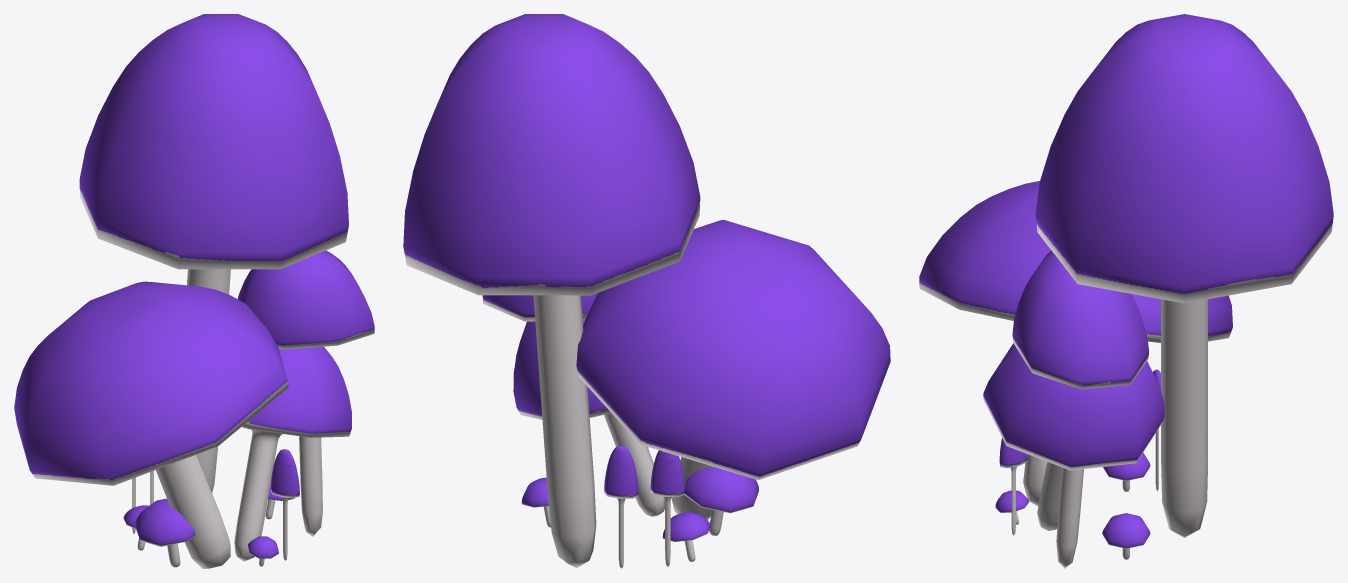
The model's file is PurpleMushroomCluster.fbx.
The picture shows the model from 3 angles, left to right: view 1: azimuth 30°, elevation 25°; view 2: azimuth 150°, elevation 25°; view 3: azimuth 270°, elevation 25°; orthographic projection. The views are drawn at different scales.
Parts seen in each view (by area): view 1: MushroomCluster.001; view 2: MushroomCluster.001; view 3: MushroomCluster.001.
Part boxes in pixels (bbox=[...]): MushroomCluster.001: bbox=[14, 14, 374, 568]; MushroomCluster.001: bbox=[403, 14, 890, 568]; MushroomCluster.001: bbox=[919, 14, 1333, 568].
Size of the model in its own units: 219 by 290 by 207.
